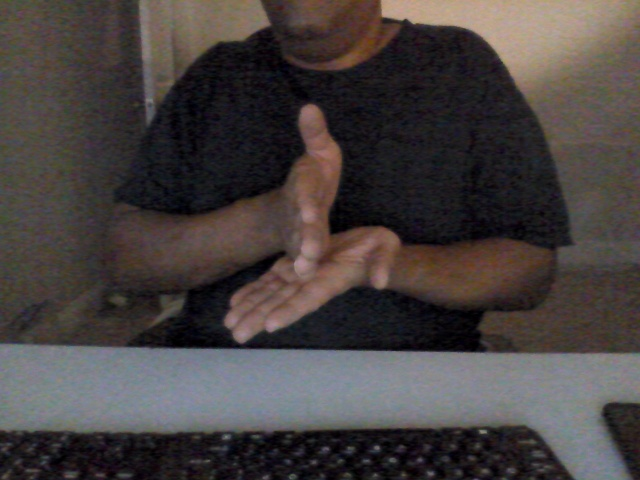stop: (220, 100, 403, 348)
